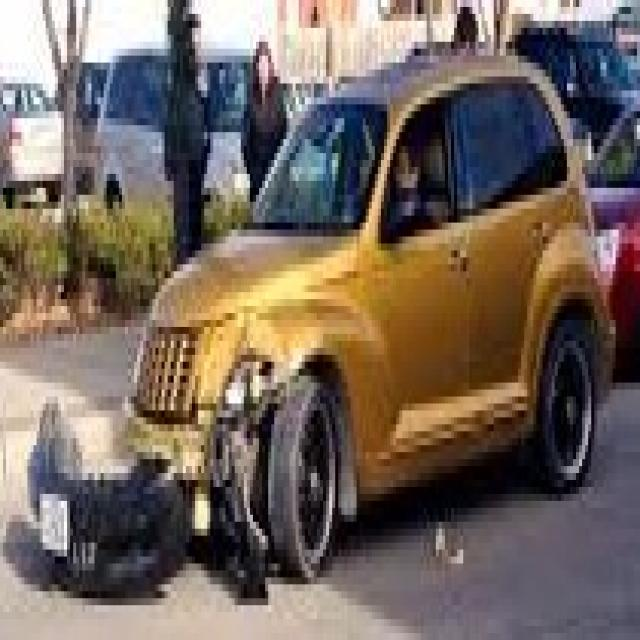moderate: (31, 374, 319, 570)
